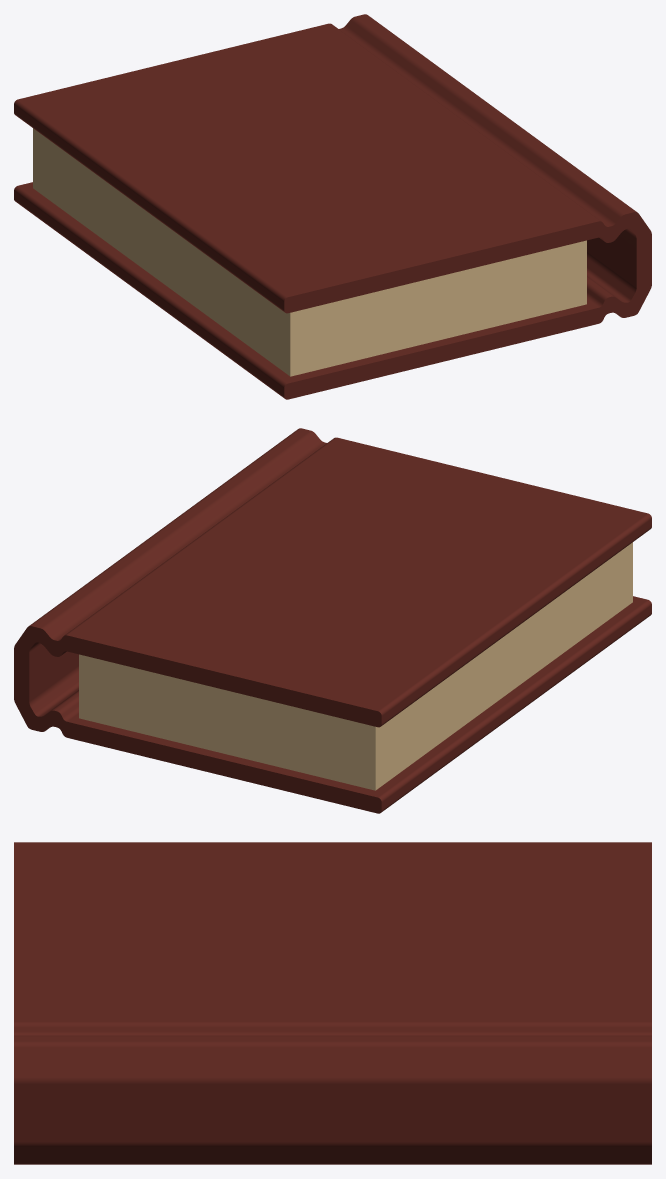
The model's file is book_model.fbx.
The picture shows the model from 3 angles, top to bottom: view 1: azimuth 30°, elevation 25°; view 2: azimuth 150°, elevation 25°; view 3: azimuth 270°, elevation 25°; orthographic projection. The views are drawn at different scales.
Visible parts, largest first — view 1: binding, paper; view 2: binding, paper; view 3: binding.
Boxes of the visible parts, bbox=[...] form: binding: bbox=[14, 14, 651, 399]; paper: bbox=[33, 128, 586, 376]; binding: bbox=[14, 428, 651, 813]; paper: bbox=[79, 542, 632, 790]; binding: bbox=[14, 842, 651, 1164].
Bounding box in the file's own units: 2.98 × 0.8021 × 3.79.
